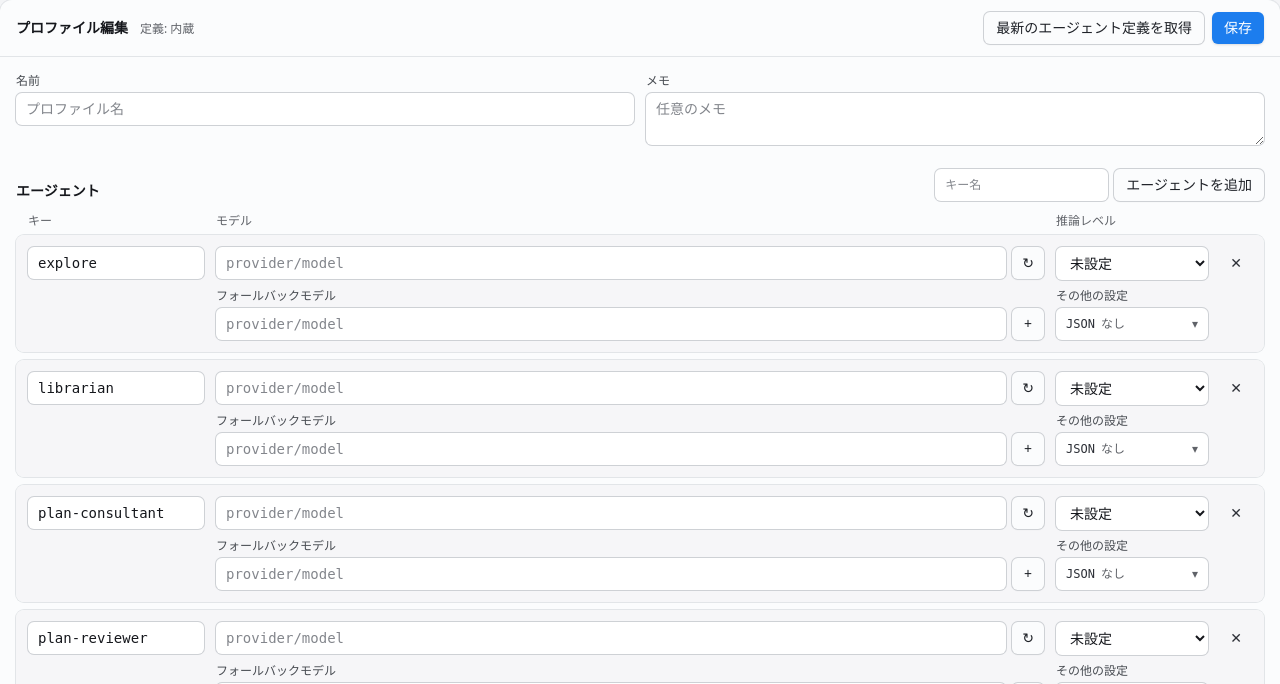
Test: ProfileEditor › still requires a model on a partially filled row
This screenshot has width=1280, height=684.
Type "Fresh" into the field with placeholder "プロファイル名" at (325, 109), box [16,93,634,125]
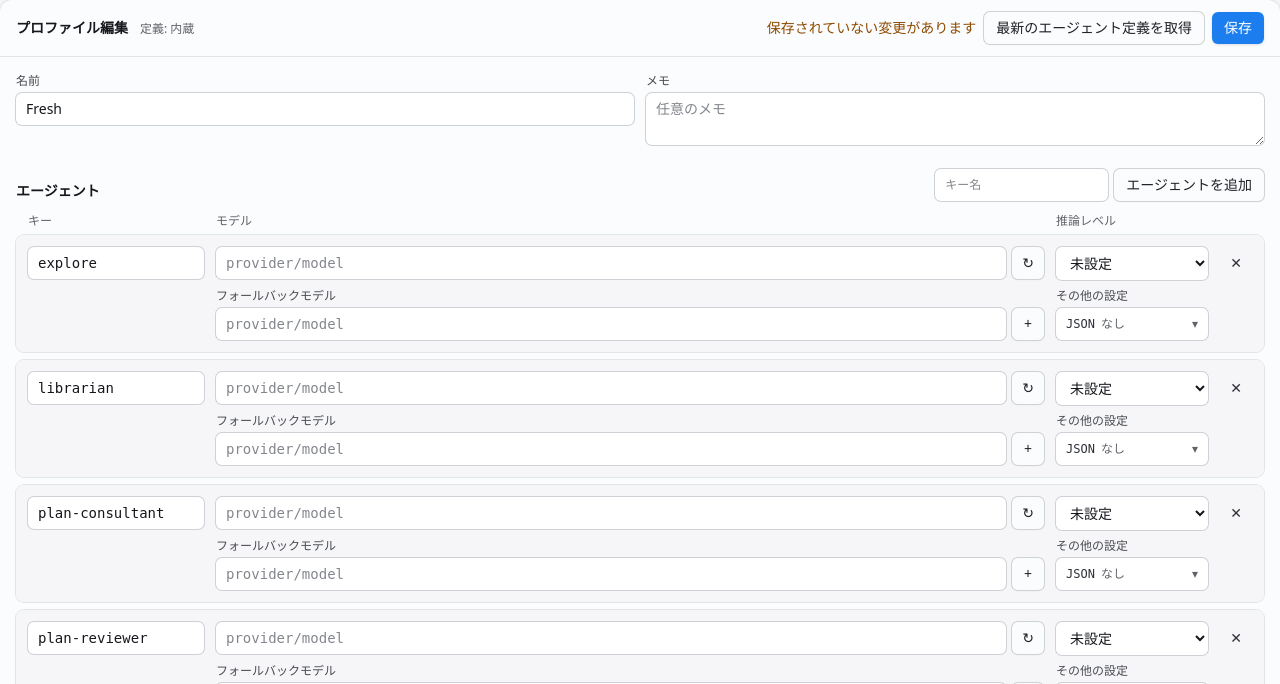
Select "high" in the 1st dropdown named "推論レベル" at (1132, 264), box [1056,247,1208,280]
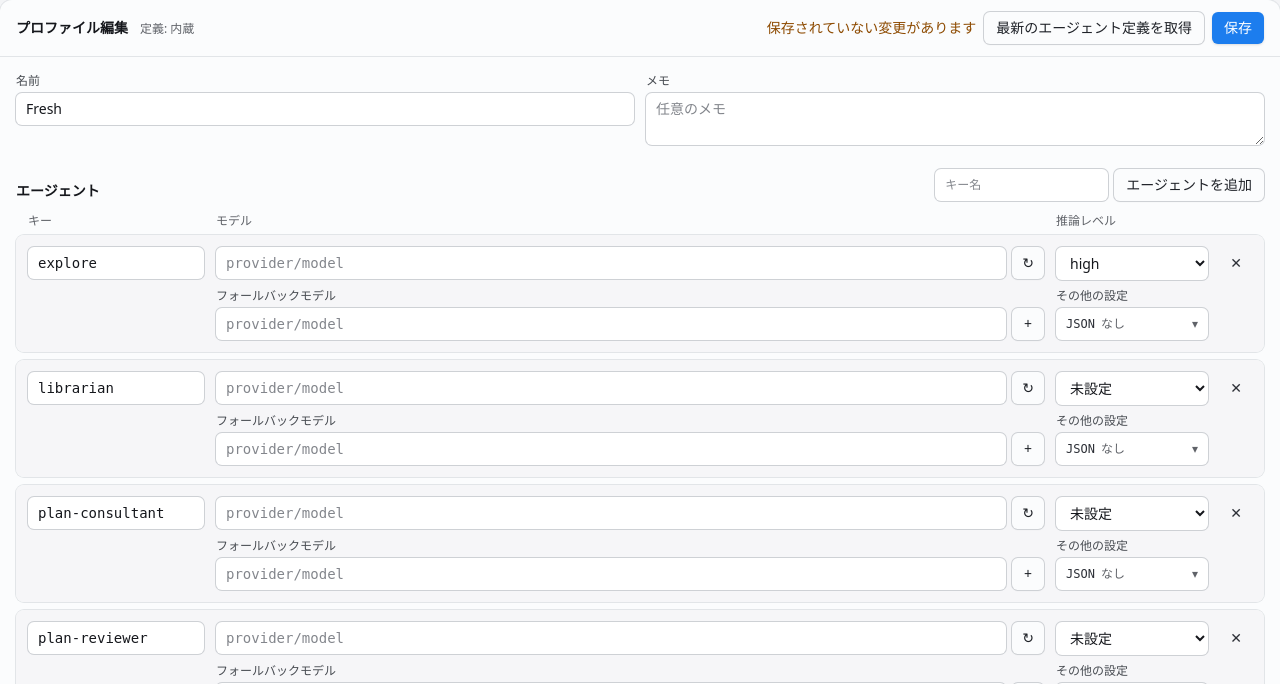
Click the button "保存" at (1238, 28), box [1212,12,1264,44]
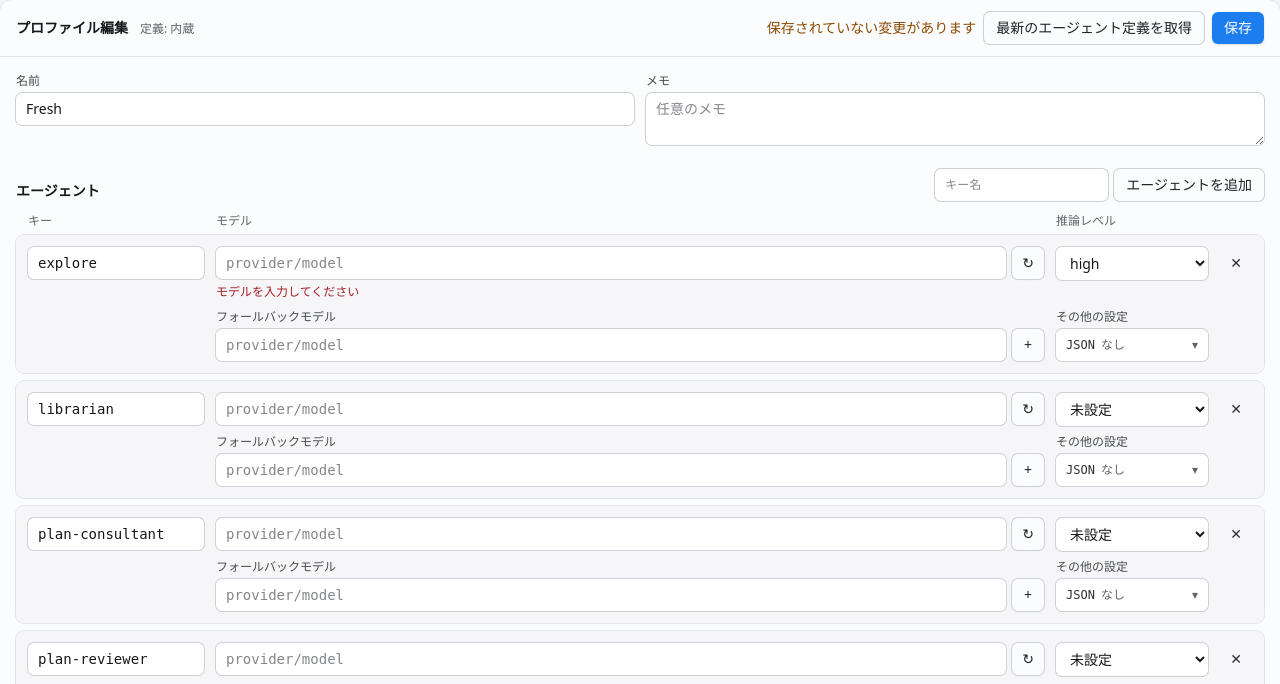
expect the text "モデルを入力してください" is shown: met, box [216,283,359,300]
